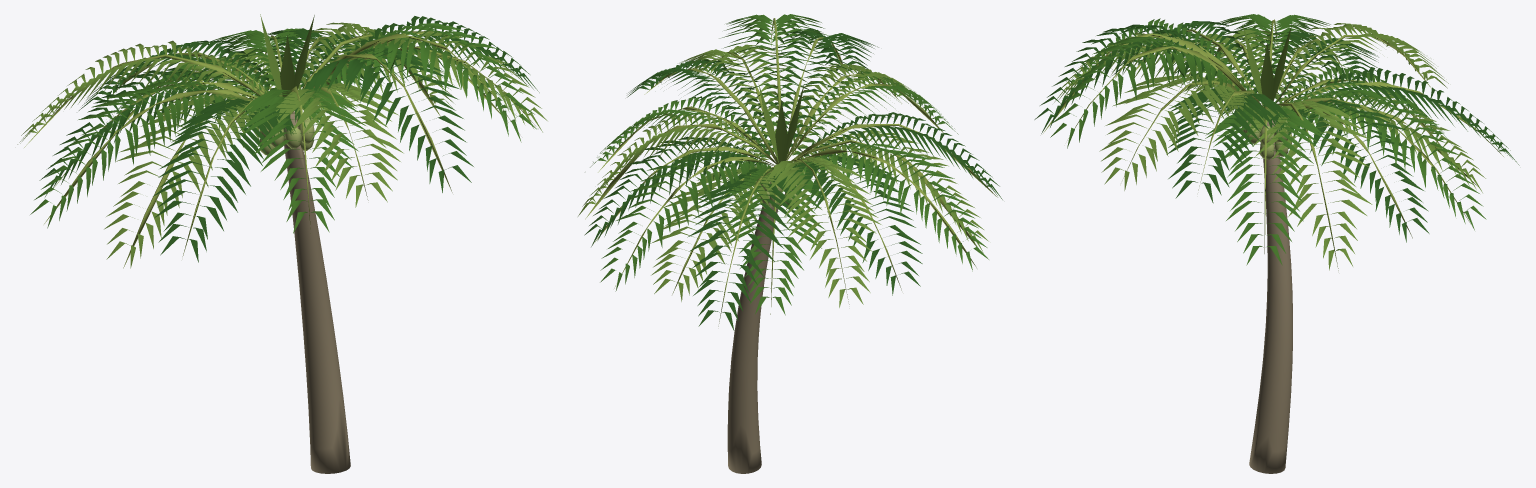
Rendered from CoconutPalm_B.glb.
3 views of the same model, side by side, from view 1: azimuth 30°, elevation 25°; view 2: azimuth 150°, elevation 25°; view 3: azimuth 270°, elevation 25° (orthographic). The views are drawn at different scales.
Visible parts, largest first — view 1: CoconutPalm_B_Palm_LeafColor, CoconutPalm_B_Palm_Bark_WarmGray, CoconutPalm_B_Coconut_Frond_Stem, CoconutPalm_B_Coconut_GreenGold; view 2: CoconutPalm_B_Palm_LeafColor, CoconutPalm_B_Coconut_Frond_Stem, CoconutPalm_B_Palm_Bark_WarmGray; view 3: CoconutPalm_B_Palm_LeafColor, CoconutPalm_B_Palm_Bark_WarmGray, CoconutPalm_B_Coconut_Frond_Stem, CoconutPalm_B_Coconut_GreenGold.
Boxes of the visible parts, <box> form: CoconutPalm_B_Palm_LeafColor: <box>17,14,547,268</box>; CoconutPalm_B_Palm_Bark_WarmGray: <box>283,112,350,473</box>; CoconutPalm_B_Coconut_Frond_Stem: <box>24,31,535,268</box>; CoconutPalm_B_Coconut_GreenGold: <box>259,111,314,155</box>; CoconutPalm_B_Palm_LeafColor: <box>578,14,1002,330</box>; CoconutPalm_B_Coconut_Frond_Stem: <box>585,18,997,326</box>; CoconutPalm_B_Palm_Bark_WarmGray: <box>727,202,778,473</box>; CoconutPalm_B_Palm_LeafColor: <box>1034,14,1519,270</box>; CoconutPalm_B_Palm_Bark_WarmGray: <box>1249,120,1292,473</box>; CoconutPalm_B_Coconut_Frond_Stem: <box>1043,19,1503,270</box>; CoconutPalm_B_Coconut_GreenGold: <box>1242,120,1291,159</box>.
Bounding box in the file's own units: 8.67 × 8.36 × 8.55.
